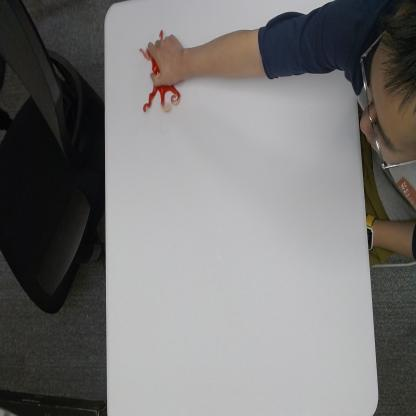Hand: (193, 0, 360, 82), (147, 33, 191, 87)
Octopus: (138, 28, 183, 115)
